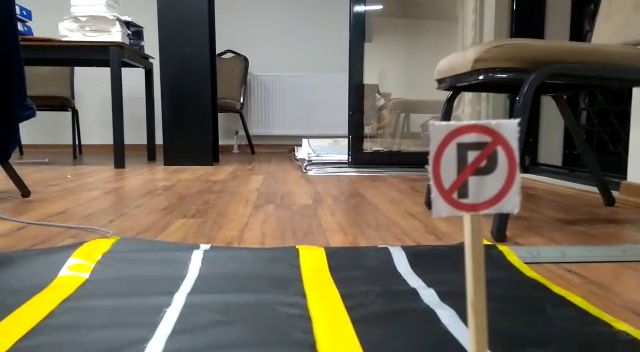park_yapilmaz: (427, 122, 523, 215)
